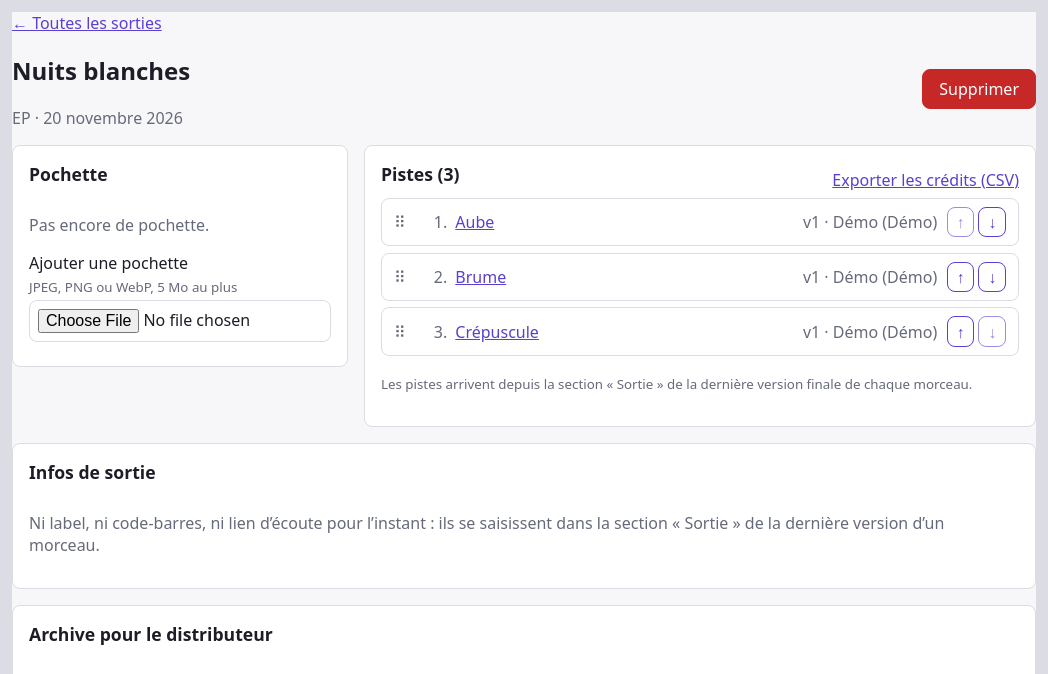
Test: ReleaseDetailPage › un refus remet l'ordre enregistré et affiche le message
The image size is (1048, 674).
Click the button named "Monter Crépuscule" at (961, 332), box [947,316,974,347]
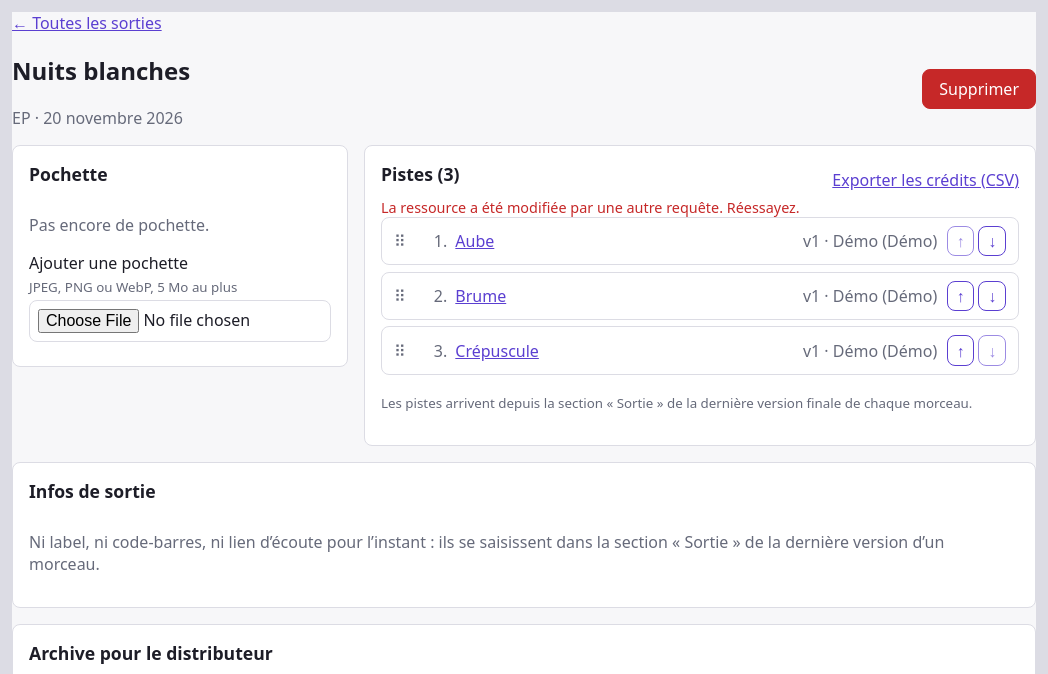
Expected: the message "La ressource a été modifiée par une autre requête. Réessayez." is shown, [381,198,800,217]
